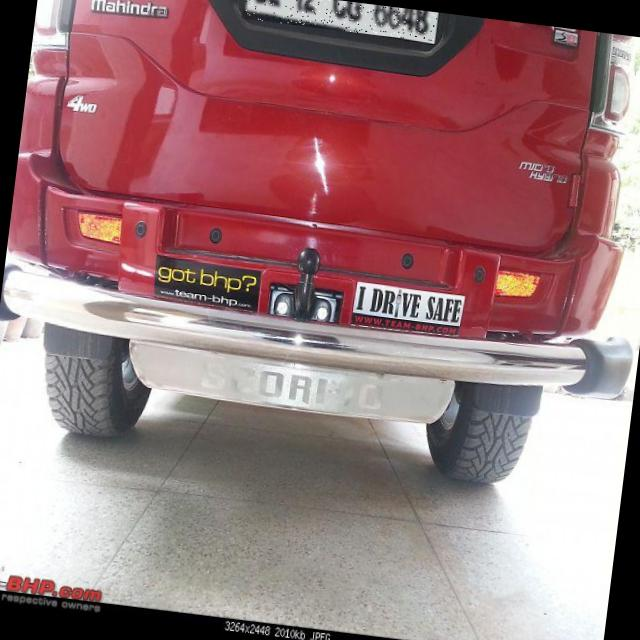Plate: (242, 1, 438, 42)
